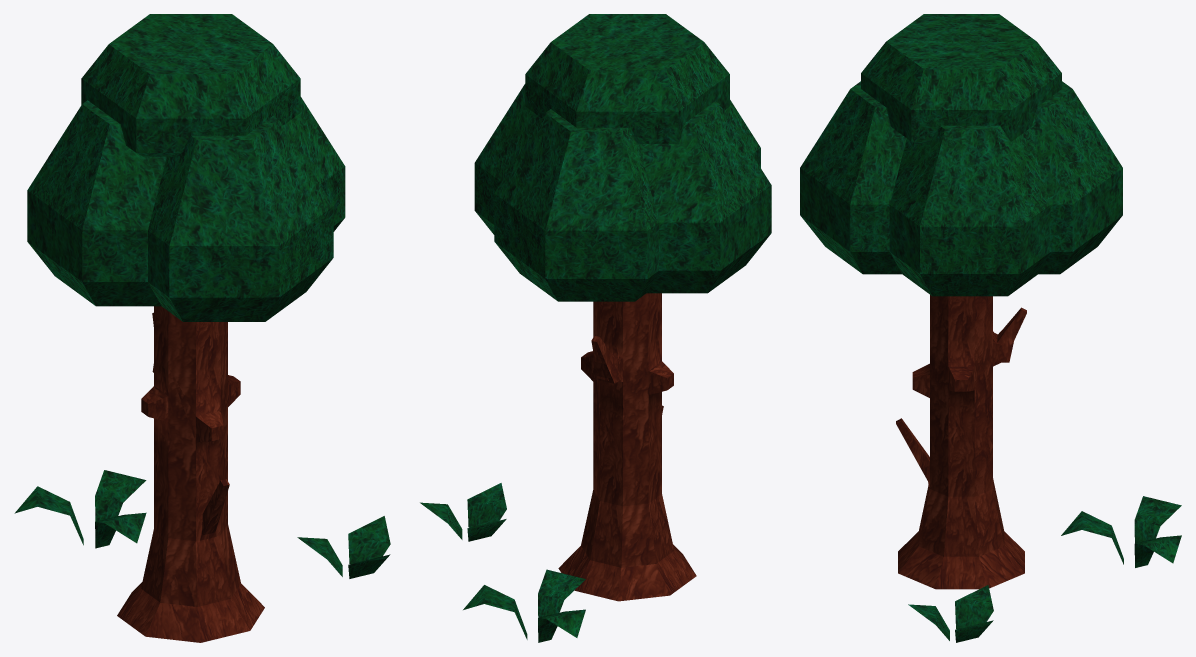
The model's file is Tree.glb.
The picture shows the model from 3 angles, left to right: view 1: azimuth 30°, elevation 25°; view 2: azimuth 150°, elevation 25°; view 3: azimuth 270°, elevation 25°; orthographic projection. The views are drawn at different scales.
Visible parts, largest first — view 1: mergedBlocks(Clone); view 2: mergedBlocks(Clone); view 3: mergedBlocks(Clone).
Part boxes in pixels (<box>): mergedBlocks(Clone): <box>14,14,390,642</box>; mergedBlocks(Clone): <box>420,14,771,642</box>; mergedBlocks(Clone): <box>800,14,1181,642</box>.
Bounding box in the file's own units: 2.07 × 3.3 × 2.19.
Materials: 2 (2 with a texture image).
